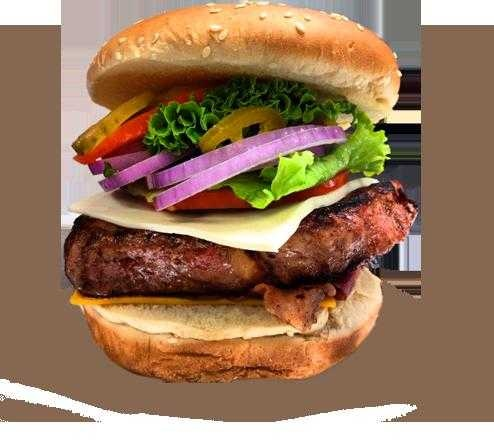hamburger: (50, 3, 410, 378)
